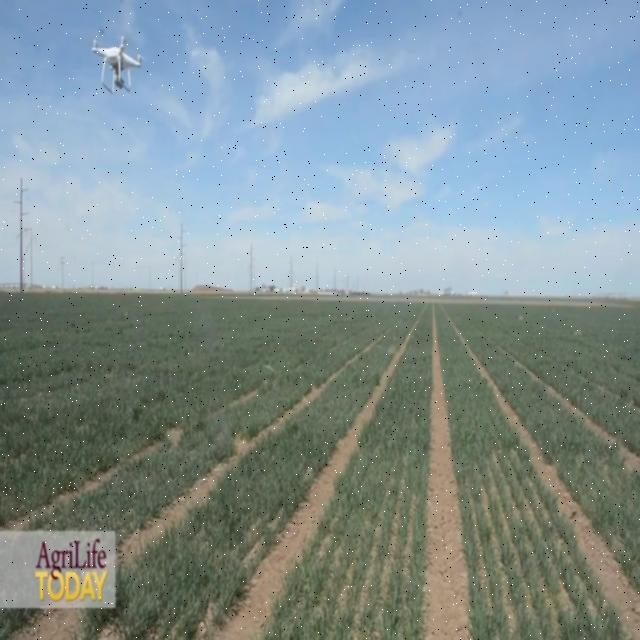UAV: (92, 36, 144, 94)
